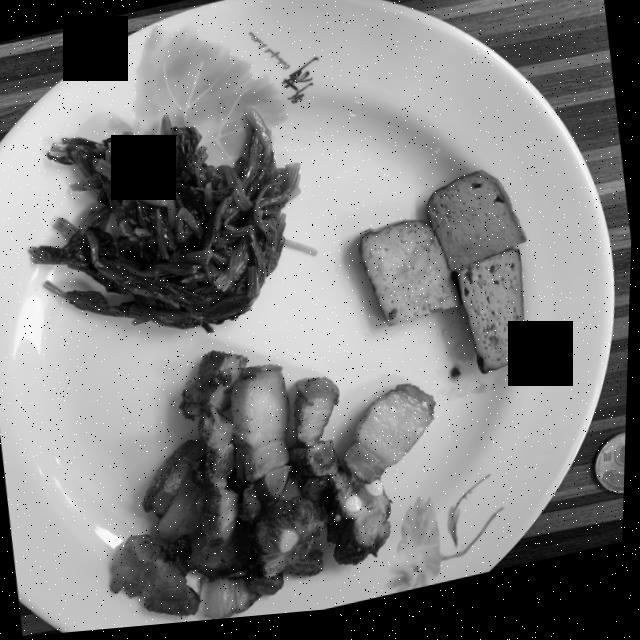coin: (598, 443, 629, 504)
firm tofu: (362, 179, 528, 382)
grilled pork: (114, 354, 437, 624)
mustard greens: (30, 113, 319, 333)
